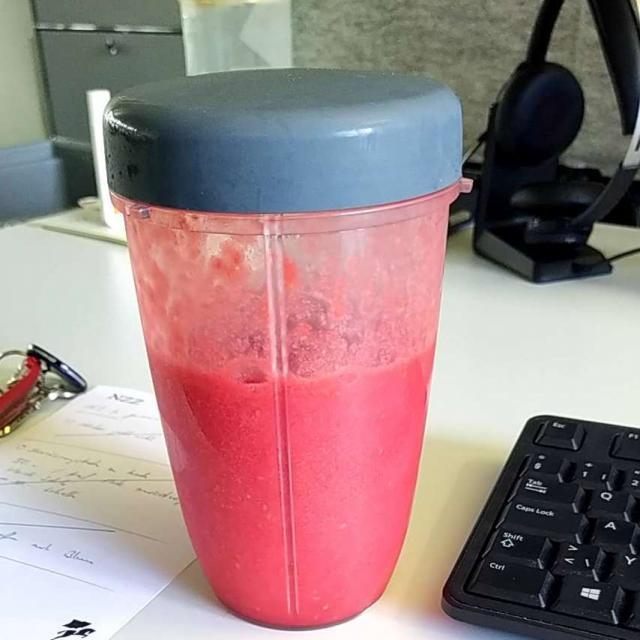smoothie: (129, 288, 442, 629)
